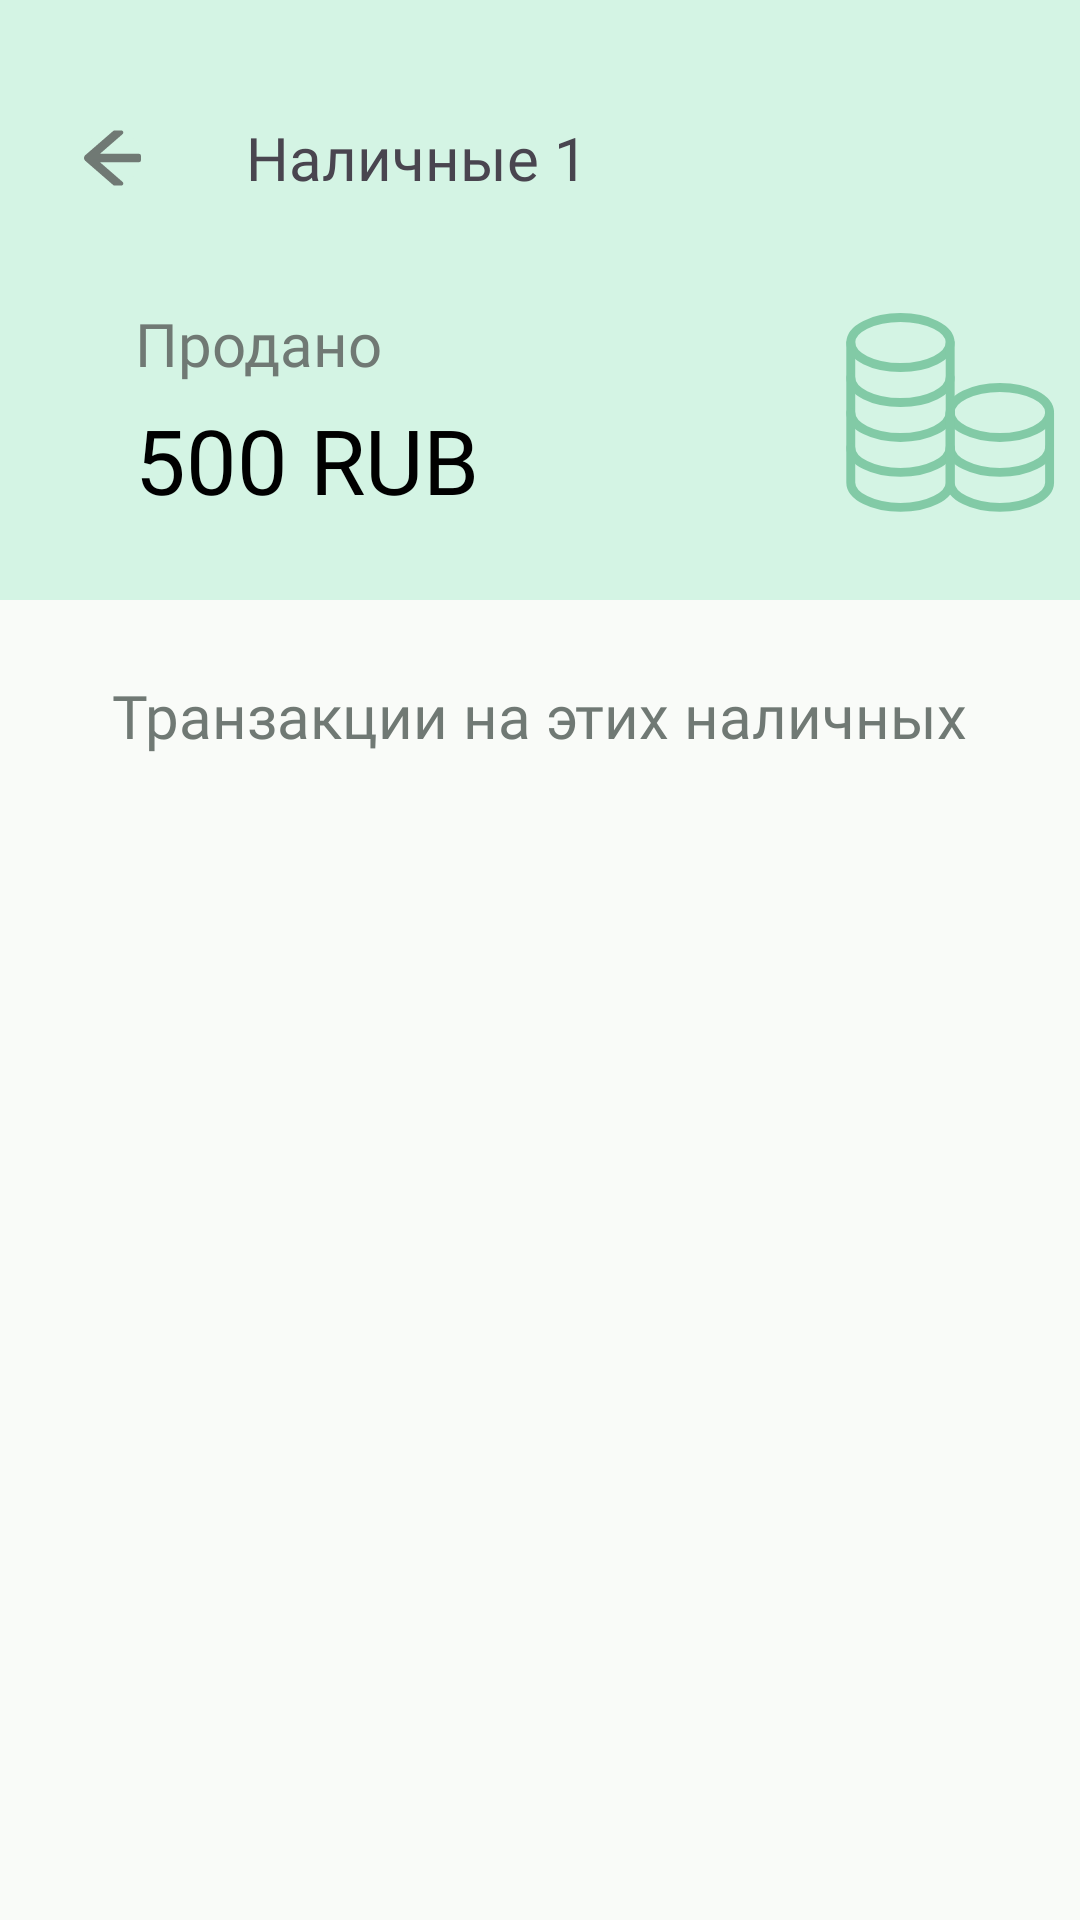

Where icons sit on this 1080w x 1920h app screen, as (x1=x1, y1=y1, x2=x2, y2=y2):
arrow left: (x1=84, y1=130, x2=141, y2=186)
money: (x1=846, y1=313, x2=1054, y2=512)
